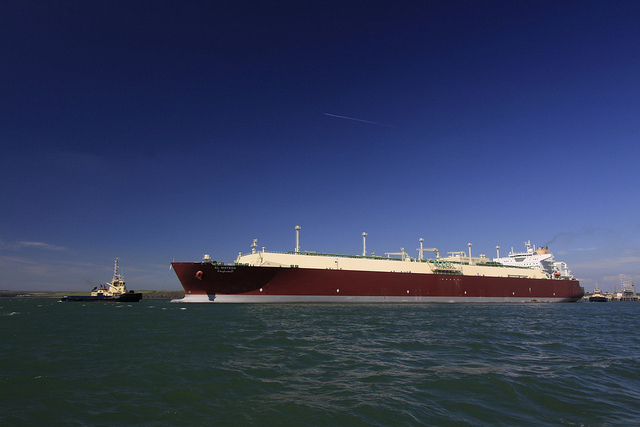LNG_ship: (167, 231, 588, 305)
tug_boat: (62, 262, 143, 301), (589, 286, 608, 303)
